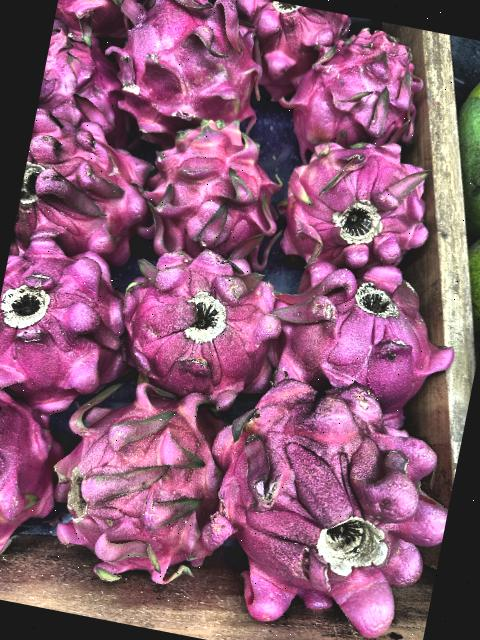buah-naga-matang: (195, 357, 468, 640), (35, 368, 270, 608), (258, 230, 462, 412), (100, 240, 308, 410), (264, 120, 464, 289), (9, 106, 188, 281), (125, 109, 296, 277), (93, 0, 287, 140), (0, 239, 146, 415), (279, 6, 441, 162), (0, 381, 78, 571)
